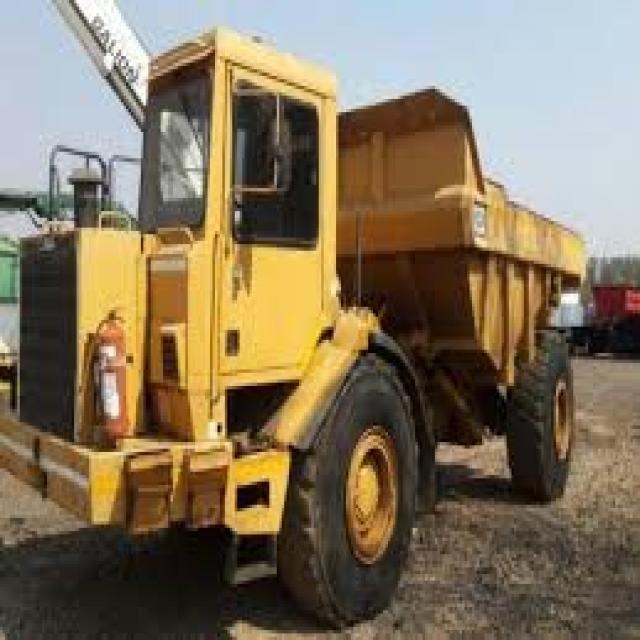dump_truck: (22, 10, 610, 630)
